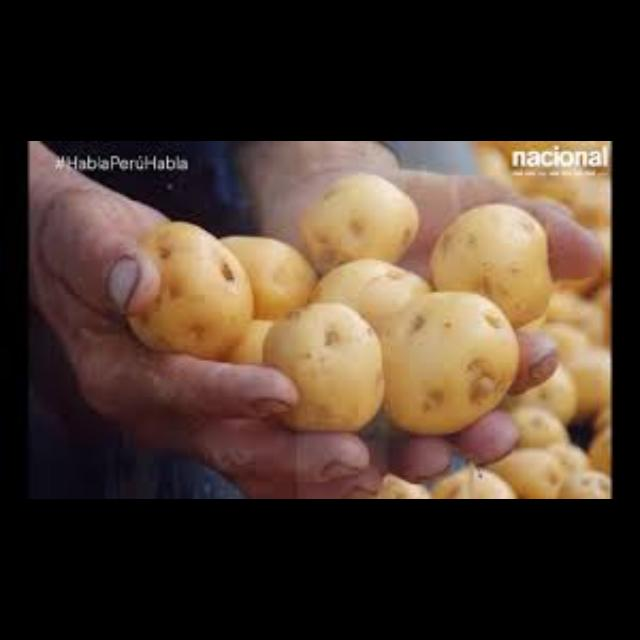Potato: (369, 290, 521, 442), (118, 218, 248, 368), (260, 298, 390, 442), (425, 200, 559, 332), (290, 168, 420, 276), (302, 253, 431, 337), (208, 228, 316, 326)
